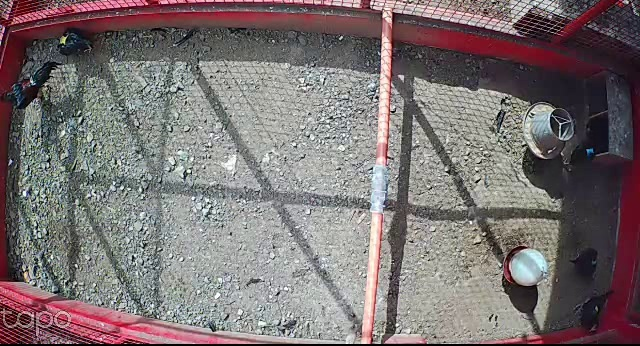Chicken: (570, 288, 614, 335), (559, 139, 600, 169), (567, 243, 601, 278), (54, 29, 97, 55)
Drinker: (504, 245, 547, 287)
Feeder: (523, 101, 576, 160)
Rooster: (0, 61, 61, 113)
Saddle_Color_Blue: (585, 149, 595, 156)
Saddle_Color_Yellow: (59, 34, 68, 43)
